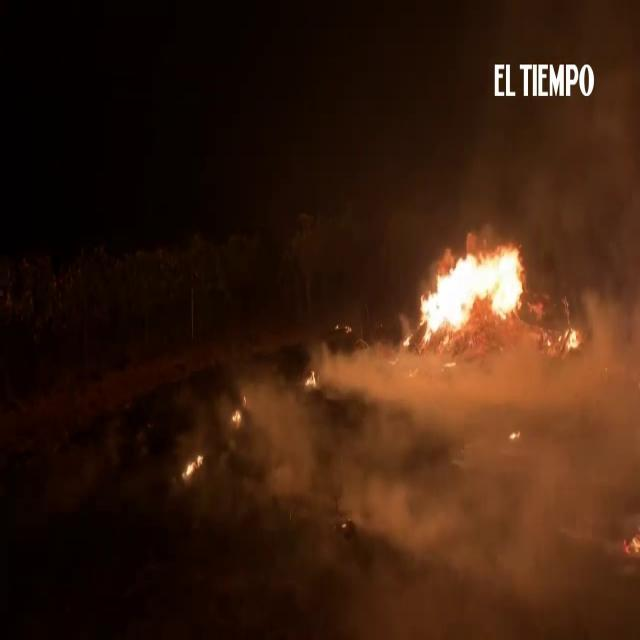Fire: (391, 236, 531, 370), (182, 452, 206, 480), (566, 326, 582, 348), (306, 364, 318, 388), (507, 425, 523, 442), (232, 406, 243, 429), (629, 527, 638, 555)
